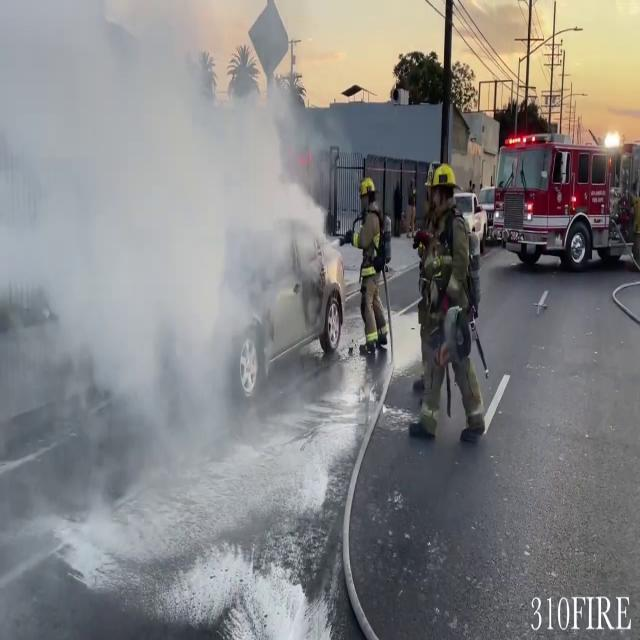Smoke: (0, 0, 340, 497)
